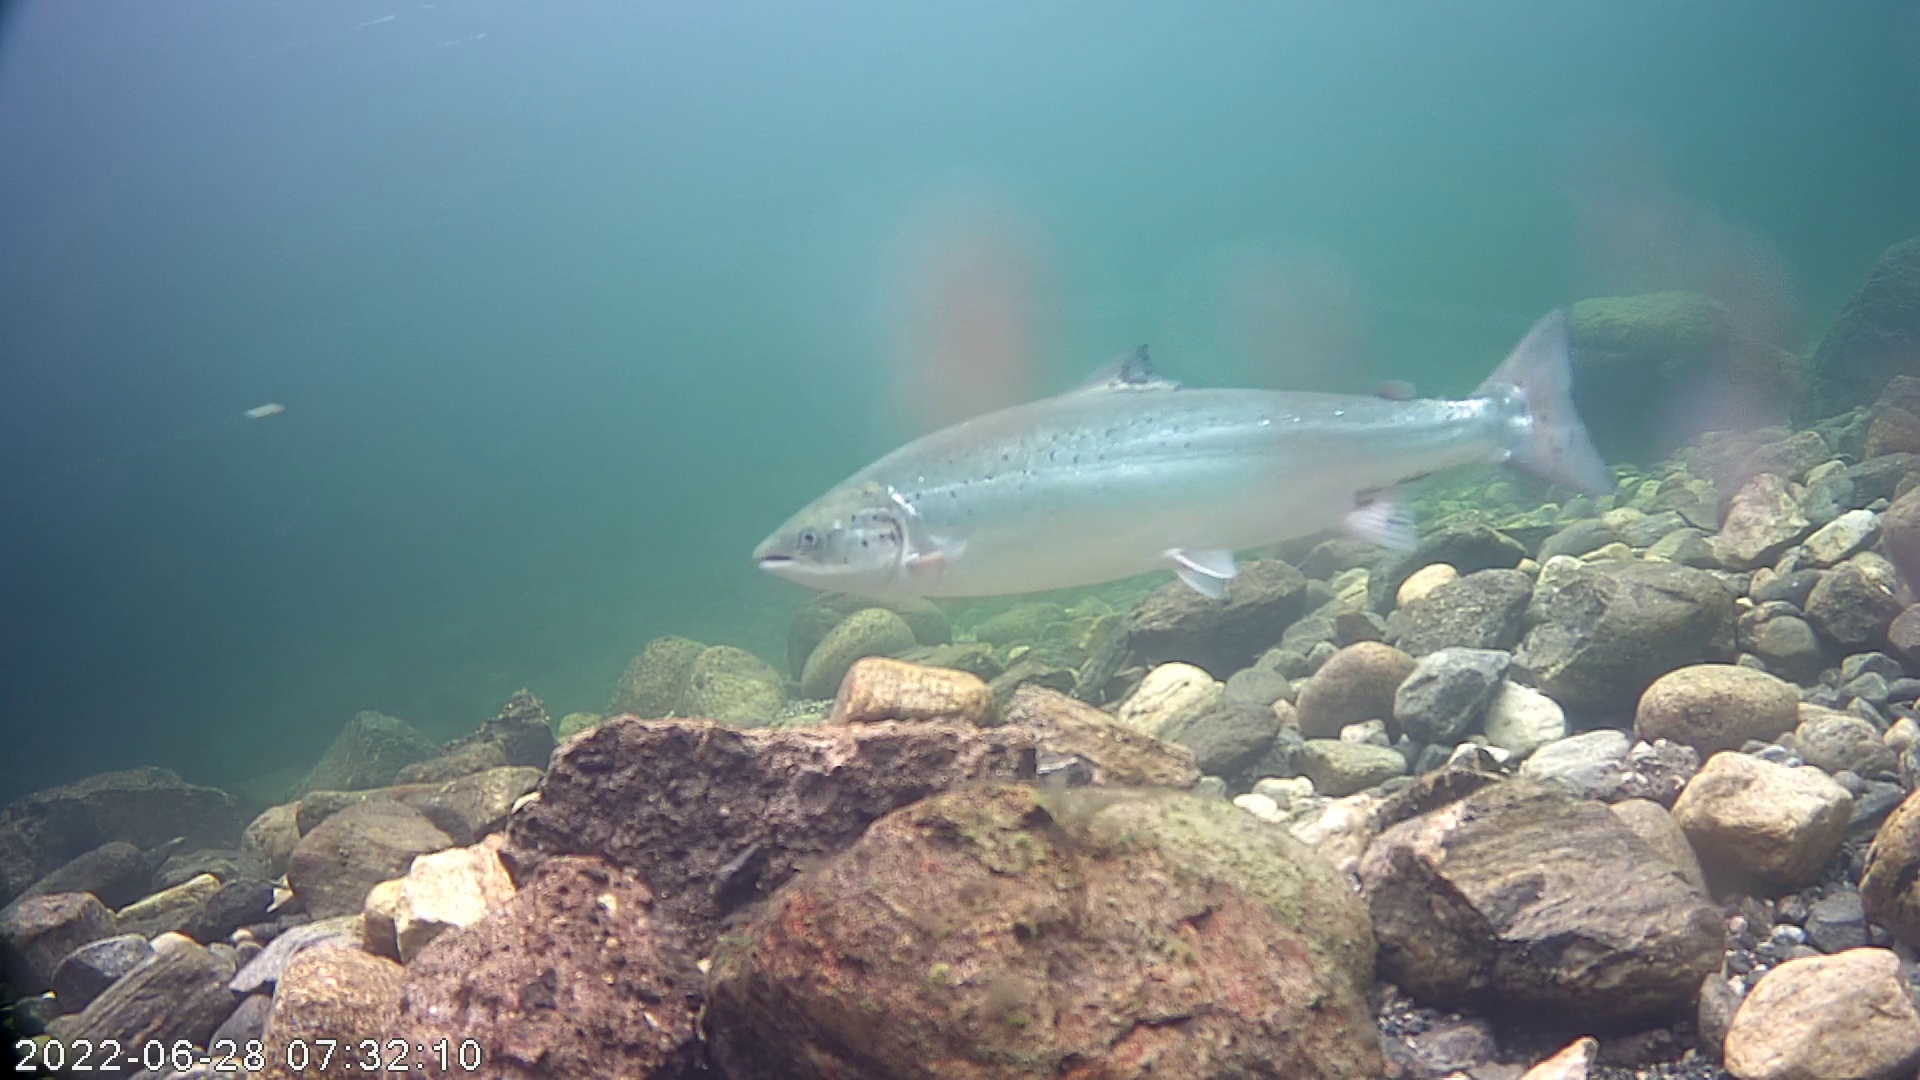salmon: (746, 218, 1633, 659)
